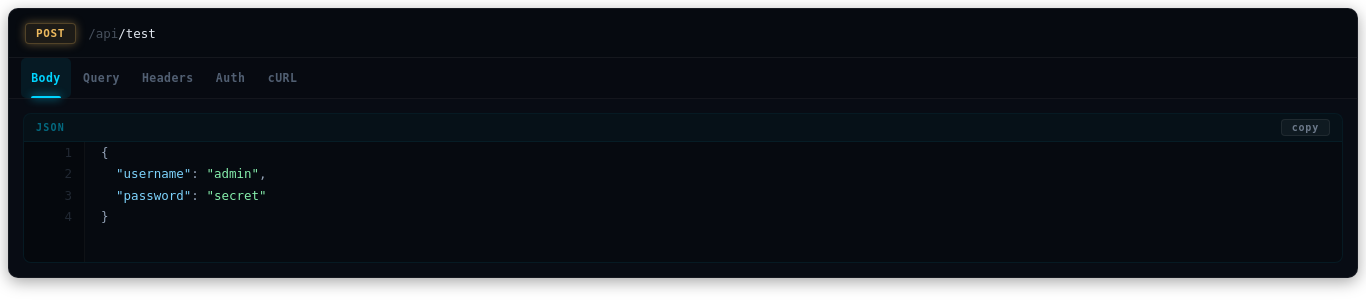
Test: RequestPanel — pestañas vacías y cURL › muestra el mensaje de autenticación vacía cuando la solicitud no tiene autenticación
Click the button "Auth" at {"x": 231, "y": 78}, box [206,58,256,98]
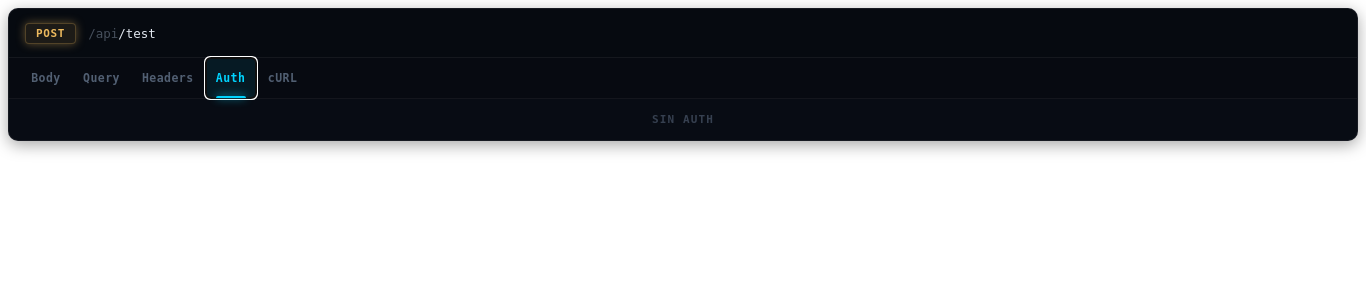
Check: the text "Sin auth" is shown, box [652,113,714,126]
